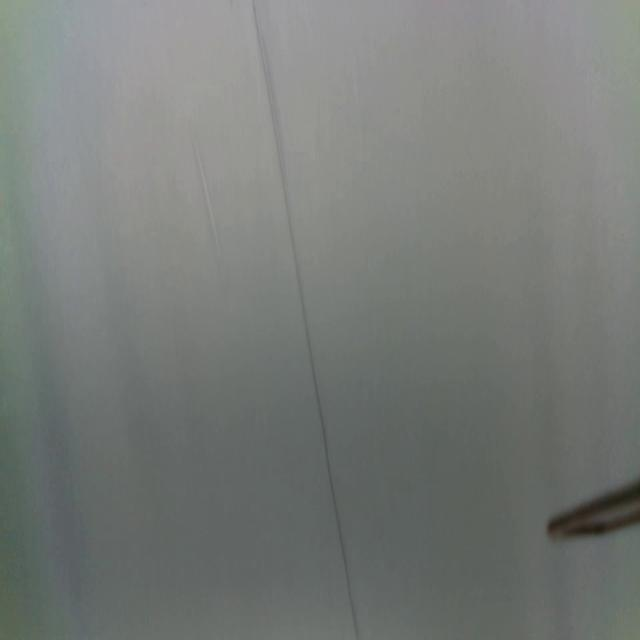crease: (252, 0, 358, 639), (192, 142, 220, 256)
